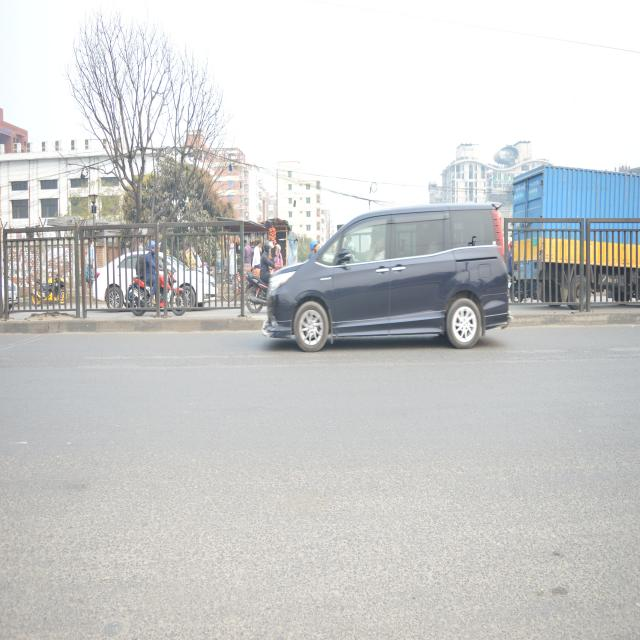car: (90, 245, 204, 302)
microbus: (271, 204, 511, 366)
motorbike: (126, 271, 189, 327), (34, 272, 70, 315), (238, 267, 268, 315)
truck: (513, 172, 640, 314)
